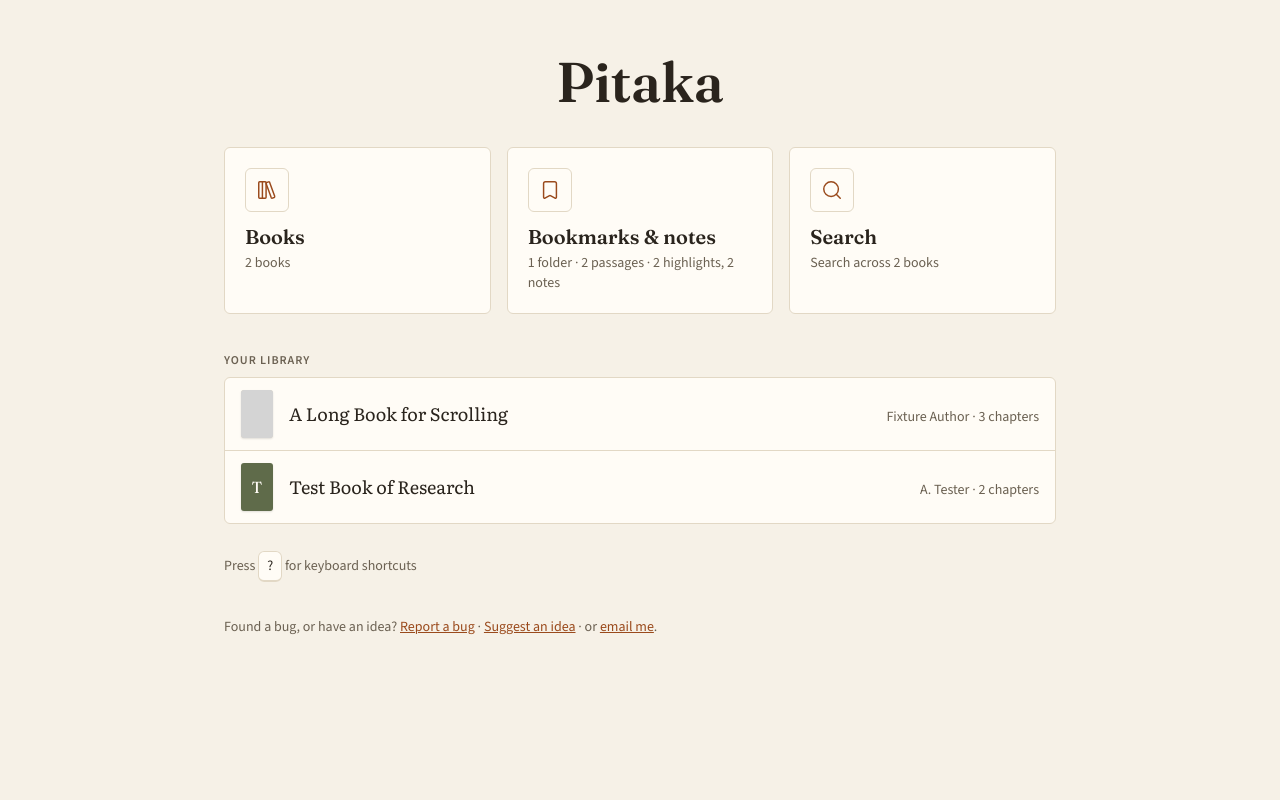
Scenario: highlights in the reader › shows the core's error, such as an overlap, in the toolbar
Click the button "Books 2 books": coordinates (267, 190) [224,147,491,314]
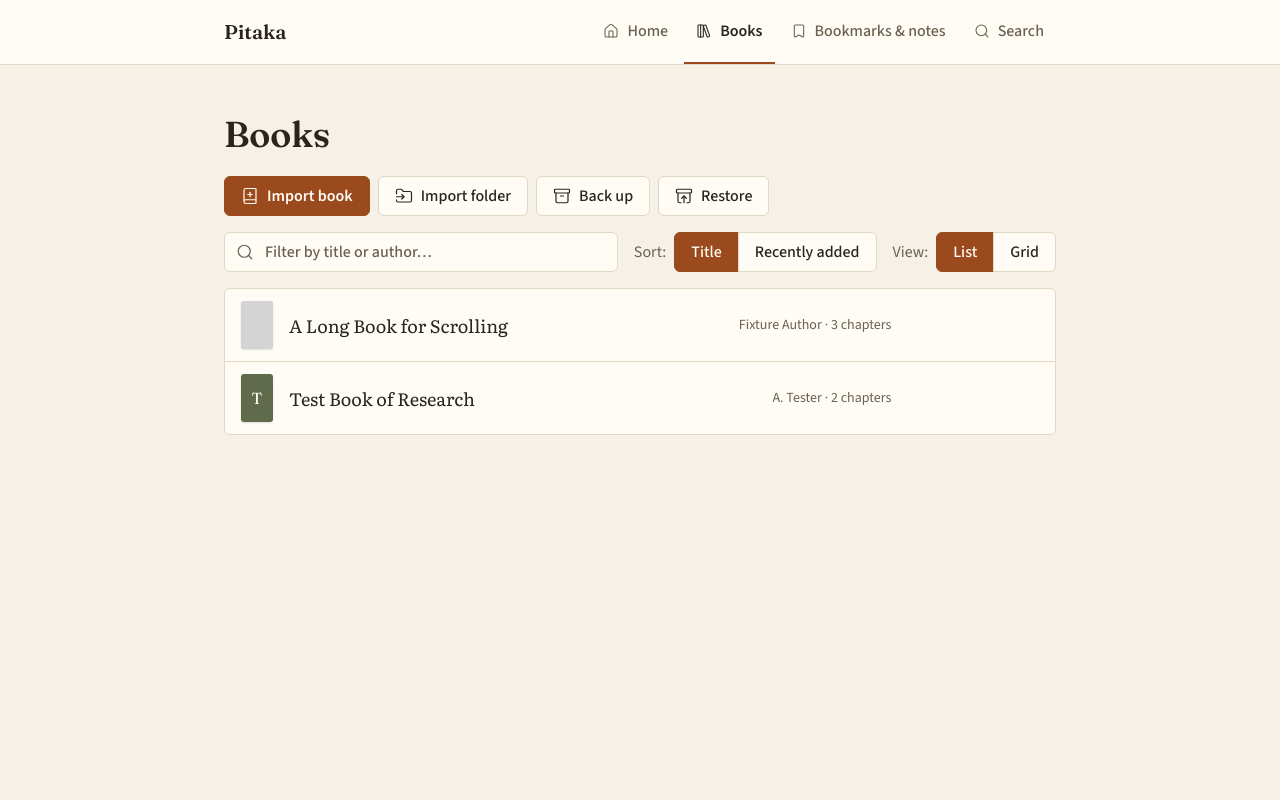
Expected: the heading "Books" is shown, [224,112,330,156]
Click the text "A Long Book for Scrolling": coordinates (399, 325) [289,312,508,339]
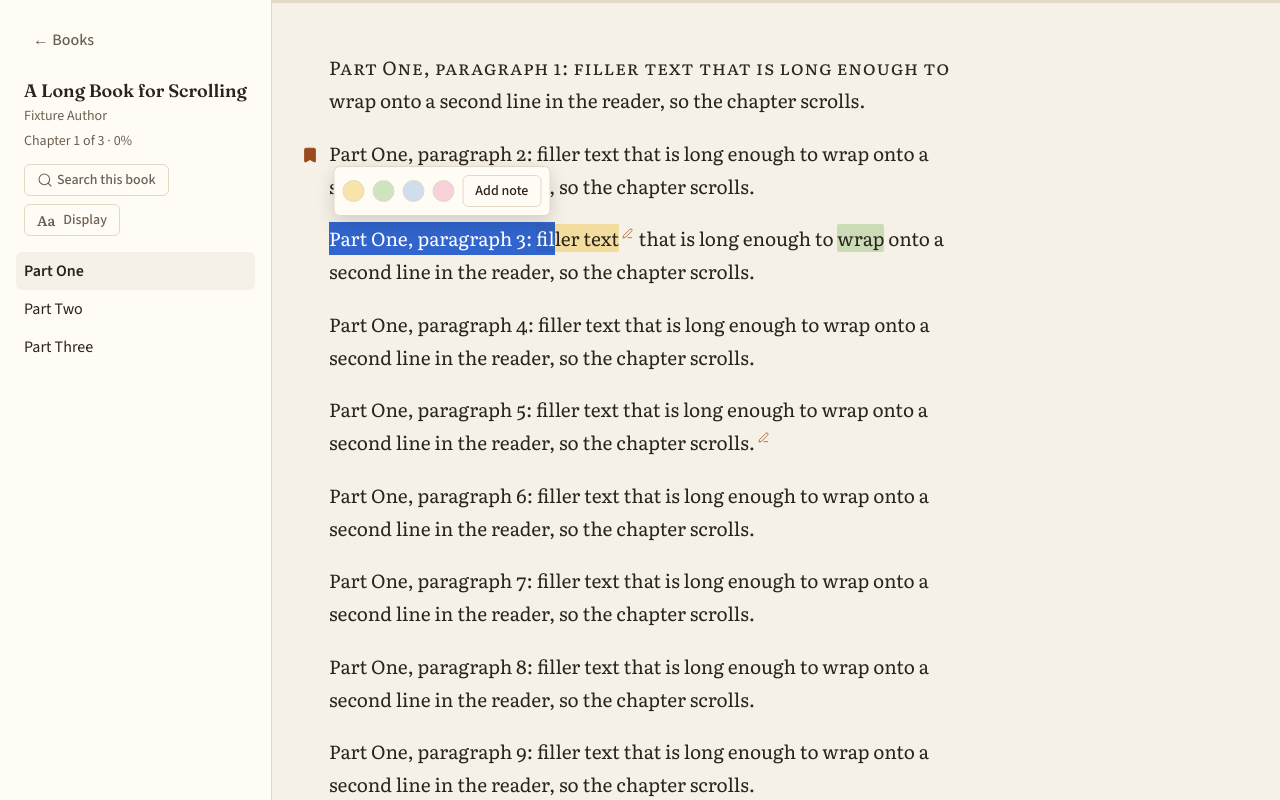
Expected: the text "Part One, paragraph 1:" is shown, [329,53,950,114]
Expected: the text "filler text" is shown, [536,224,619,252]
Click the button named "Highlight pink": coordinates (443, 191) [432,180,454,202]
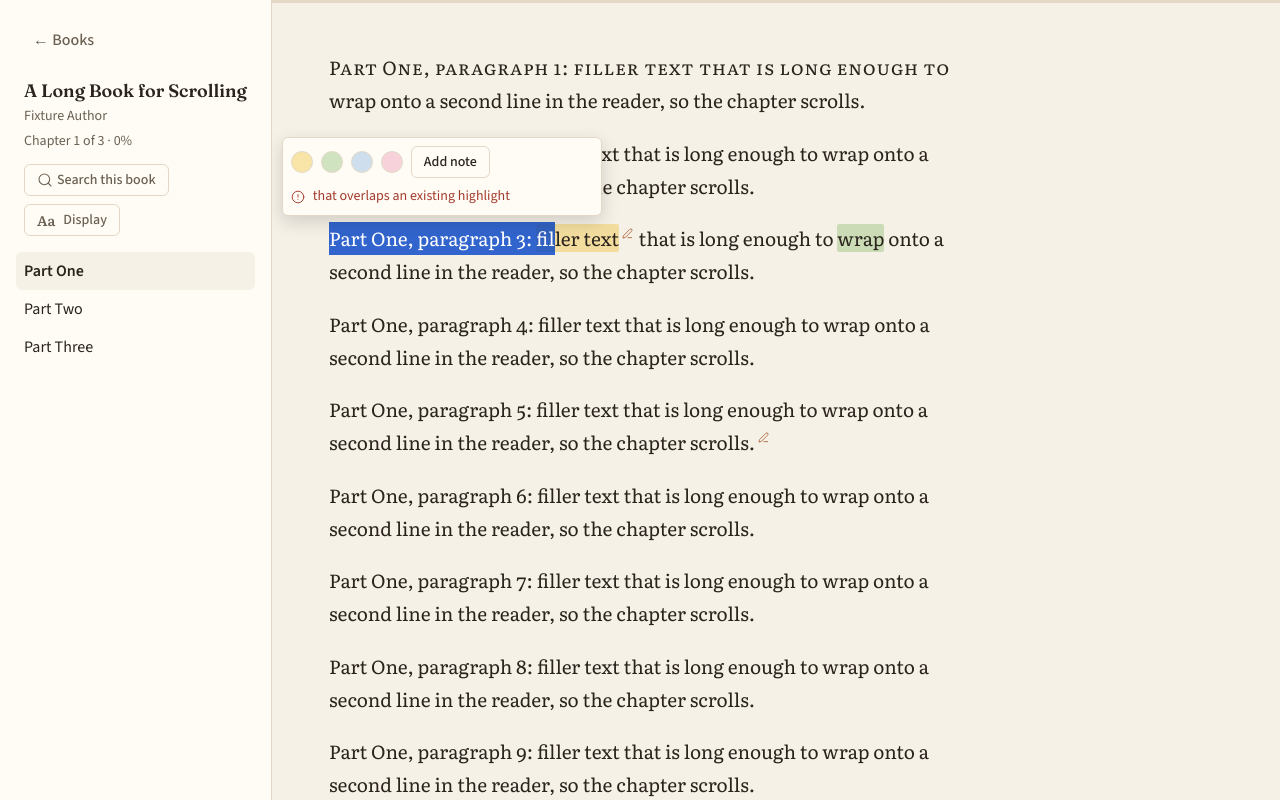
Expected: the text "that overlaps an existing highlight" is shown, [313,186,510,207]
